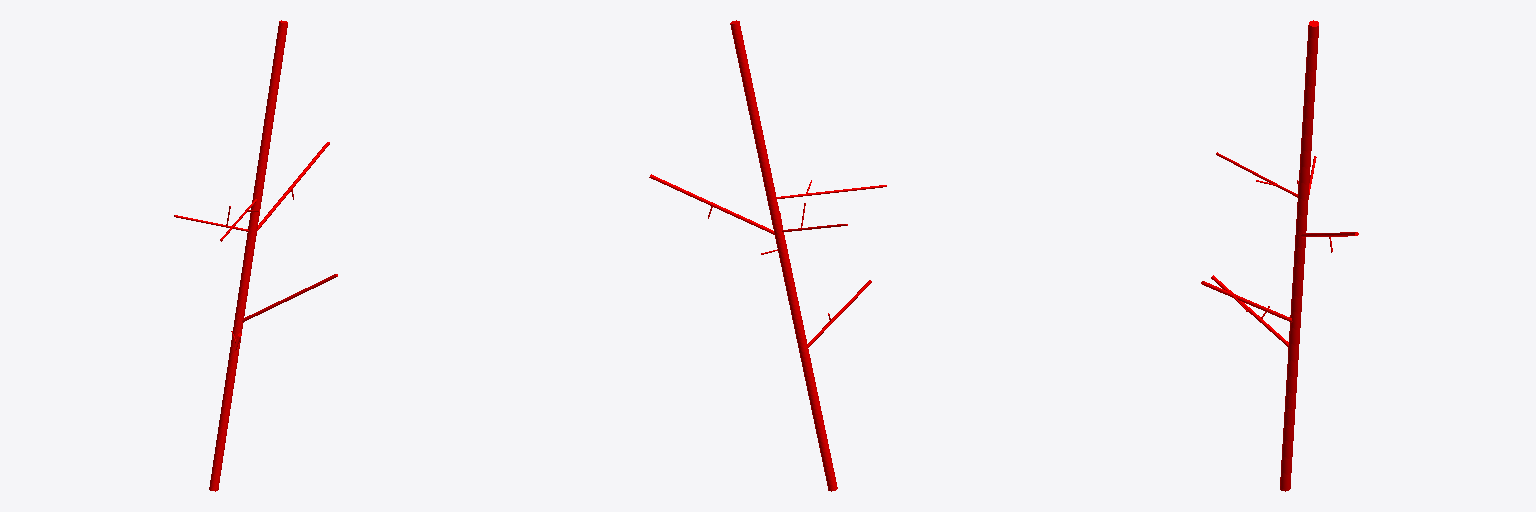
The robot description file, URDF, robot "tree_177.urdf":
<?xml version='1.0' encoding='UTF-8'?>
<robot name="tree_177.urdf">
  <link name="branch_0">
    <inertial>
      <origin xyz="0.0 0.0 0.0" rpy="0.0 -0.0 0.0"/>
      <mass value="0.1"/>
      <inertia ixx="0.001" ixy="0.0" ixz="0.0" iyy="0.001" iyz="0.0" izz="0.001"/>
    </inertial>
    <visual name="branch_0_visual">
      <geometry>
        <cylinder radius="0.061952131728685675" length="6.5943487159096525"/>
      </geometry>
      <material name="semantic_material"/>
      <origin xyz="0.634716764040335 0.16500372316297596 3.23129496449076" rpy="0.0 0.20023713428269999 0.25433465404445266"/>
    </visual>
    <collision name="branch_0_collision">
      <geometry>
        <cylinder radius="0.061952131728685675" length="6.5943487159096525"/>
      </geometry>
      <origin xyz="0.634716764040335 0.16500372316297596 3.23129496449076" rpy="0.0 0.20023713428269999 0.25433465404445266"/>
    </collision>
  </link>
  <link name="branch_1">
    <inertial>
      <origin xyz="0.0 0.0 0.0" rpy="0.0 -0.0 0.0"/>
      <mass value="0.1"/>
      <inertia ixx="0.001" ixy="0.0" ixz="0.0" iyy="0.001" iyz="0.0" izz="0.001"/>
    </inertial>
    <visual name="branch_1_visual">
      <geometry>
        <cylinder radius="0.022598519310589756" length="1.2610172672162088"/>
      </geometry>
      <material name="semantic_material"/>
      <origin xyz="0.0 0.0 0.0" rpy="0.0 -0.0 0.0"/>
    </visual>
    <collision name="branch_1_collision">
      <geometry>
        <cylinder radius="0.022598519310589756" length="1.2610172672162088"/>
      </geometry>
      <origin xyz="0.0 0.0 0.0" rpy="0.0 -0.0 0.0"/>
    </collision>
  </link>
  <link name="branch_2">
    <inertial>
      <origin xyz="0.0 0.0 0.0" rpy="0.0 -0.0 0.0"/>
      <mass value="0.1"/>
      <inertia ixx="0.001" ixy="0.0" ixz="0.0" iyy="0.001" iyz="0.0" izz="0.001"/>
    </inertial>
    <visual name="branch_2_visual">
      <geometry>
        <cylinder radius="0.01" length="0.18931573724864592"/>
      </geometry>
      <material name="semantic_material"/>
      <origin xyz="0.0 0.0 0.0" rpy="0.0 -0.0 0.0"/>
    </visual>
    <collision name="branch_2_collision">
      <geometry>
        <cylinder radius="0.01" length="0.18931573724864592"/>
      </geometry>
      <origin xyz="0.0 0.0 0.0" rpy="0.0 -0.0 0.0"/>
    </collision>
  </link>
  <link name="branch_3">
    <inertial>
      <origin xyz="0.0 0.0 0.0" rpy="0.0 -0.0 0.0"/>
      <mass value="0.1"/>
      <inertia ixx="0.001" ixy="0.0" ixz="0.0" iyy="0.001" iyz="0.0" izz="0.001"/>
    </inertial>
    <visual name="branch_3_visual">
      <geometry>
        <cylinder radius="0.015986192809593586" length="1.5023977300907447"/>
      </geometry>
      <material name="semantic_material"/>
      <origin xyz="0.0 0.0 0.0" rpy="0.0 -0.0 0.0"/>
    </visual>
    <collision name="branch_3_collision">
      <geometry>
        <cylinder radius="0.015986192809593586" length="1.5023977300907447"/>
      </geometry>
      <origin xyz="0.0 0.0 0.0" rpy="0.0 -0.0 0.0"/>
    </collision>
  </link>
  <link name="branch_4">
    <inertial>
      <origin xyz="0.0 0.0 0.0" rpy="0.0 -0.0 0.0"/>
      <mass value="0.1"/>
      <inertia ixx="0.001" ixy="0.0" ixz="0.0" iyy="0.001" iyz="0.0" izz="0.001"/>
    </inertial>
    <visual name="branch_4_visual">
      <geometry>
        <cylinder radius="0.01" length="0.26692039363874565"/>
      </geometry>
      <material name="semantic_material"/>
      <origin xyz="0.0 0.0 0.0" rpy="0.0 -0.0 0.0"/>
    </visual>
    <collision name="branch_4_collision">
      <geometry>
        <cylinder radius="0.01" length="0.26692039363874565"/>
      </geometry>
      <origin xyz="0.0 0.0 0.0" rpy="0.0 -0.0 0.0"/>
    </collision>
  </link>
  <link name="branch_5">
    <inertial>
      <origin xyz="0.0 0.0 0.0" rpy="0.0 -0.0 0.0"/>
      <mass value="0.1"/>
      <inertia ixx="0.001" ixy="0.0" ixz="0.0" iyy="0.001" iyz="0.0" izz="0.001"/>
    </inertial>
    <visual name="branch_5_visual">
      <geometry>
        <cylinder radius="0.02408217185826519" length="1.8381310448639199"/>
      </geometry>
      <material name="semantic_material"/>
      <origin xyz="0.0 0.0 0.0" rpy="0.0 -0.0 0.0"/>
    </visual>
    <collision name="branch_5_collision">
      <geometry>
        <cylinder radius="0.02408217185826519" length="1.8381310448639199"/>
      </geometry>
      <origin xyz="0.0 0.0 0.0" rpy="0.0 -0.0 0.0"/>
    </collision>
  </link>
  <link name="branch_6">
    <inertial>
      <origin xyz="0.0 0.0 0.0" rpy="0.0 -0.0 0.0"/>
      <mass value="0.1"/>
      <inertia ixx="0.001" ixy="0.0" ixz="0.0" iyy="0.001" iyz="0.0" izz="0.001"/>
    </inertial>
    <visual name="branch_6_visual">
      <geometry>
        <cylinder radius="0.01" length="0.20583651888834373"/>
      </geometry>
      <material name="semantic_material"/>
      <origin xyz="0.0 0.0 0.0" rpy="0.0 -0.0 0.0"/>
    </visual>
    <collision name="branch_6_collision">
      <geometry>
        <cylinder radius="0.01" length="0.20583651888834373"/>
      </geometry>
      <origin xyz="0.0 0.0 0.0" rpy="0.0 -0.0 0.0"/>
    </collision>
  </link>
  <link name="branch_7">
    <inertial>
      <origin xyz="0.0 0.0 0.0" rpy="0.0 -0.0 0.0"/>
      <mass value="0.1"/>
      <inertia ixx="0.001" ixy="0.0" ixz="0.0" iyy="0.001" iyz="0.0" izz="0.001"/>
    </inertial>
    <visual name="branch_7_visual">
      <geometry>
        <cylinder radius="0.015429862967432857" length="1.1980494039248315"/>
      </geometry>
      <material name="semantic_material"/>
      <origin xyz="0.0 0.0 0.0" rpy="0.0 -0.0 0.0"/>
    </visual>
    <collision name="branch_7_collision">
      <geometry>
        <cylinder radius="0.015429862967432857" length="1.1980494039248315"/>
      </geometry>
      <origin xyz="0.0 0.0 0.0" rpy="0.0 -0.0 0.0"/>
    </collision>
  </link>
  <link name="branch_8">
    <inertial>
      <origin xyz="0.0 0.0 0.0" rpy="0.0 -0.0 0.0"/>
      <mass value="0.1"/>
      <inertia ixx="0.001" ixy="0.0" ixz="0.0" iyy="0.001" iyz="0.0" izz="0.001"/>
    </inertial>
    <visual name="branch_8_visual">
      <geometry>
        <cylinder radius="0.01" length="0.3476442825881533"/>
      </geometry>
      <material name="semantic_material"/>
      <origin xyz="0.0 0.0 0.0" rpy="0.0 -0.0 0.0"/>
    </visual>
    <collision name="branch_8_collision">
      <geometry>
        <cylinder radius="0.01" length="0.3476442825881533"/>
      </geometry>
      <origin xyz="0.0 0.0 0.0" rpy="0.0 -0.0 0.0"/>
    </collision>
  </link>
  <link name="branch_9">
    <inertial>
      <origin xyz="0.0 0.0 0.0" rpy="0.0 -0.0 0.0"/>
      <mass value="0.1"/>
      <inertia ixx="0.001" ixy="0.0" ixz="0.0" iyy="0.001" iyz="0.0" izz="0.001"/>
    </inertial>
    <visual name="branch_9_visual">
      <geometry>
        <cylinder radius="0.023229594645465233" length="1.6682652352520582"/>
      </geometry>
      <material name="semantic_material"/>
      <origin xyz="0.0 0.0 0.0" rpy="0.0 -0.0 0.0"/>
    </visual>
    <collision name="branch_9_collision">
      <geometry>
        <cylinder radius="0.023229594645465233" length="1.6682652352520582"/>
      </geometry>
      <origin xyz="0.0 0.0 0.0" rpy="0.0 -0.0 0.0"/>
    </collision>
  </link>
  <link name="branch_10">
    <inertial>
      <origin xyz="0.0 0.0 0.0" rpy="0.0 -0.0 0.0"/>
      <mass value="0.1"/>
      <inertia ixx="0.001" ixy="0.0" ixz="0.0" iyy="0.001" iyz="0.0" izz="0.001"/>
    </inertial>
    <visual name="branch_10_visual">
      <geometry>
        <cylinder radius="0.01" length="0.31785406753277956"/>
      </geometry>
      <material name="semantic_material"/>
      <origin xyz="0.0 0.0 0.0" rpy="0.0 -0.0 0.0"/>
    </visual>
    <collision name="branch_10_collision">
      <geometry>
        <cylinder radius="0.01" length="0.31785406753277956"/>
      </geometry>
      <origin xyz="0.0 0.0 0.0" rpy="0.0 -0.0 0.0"/>
    </collision>
  </link>
  <joint name="joint_0_1" type="fixed">
    <parent link="branch_0"/>
    <child link="branch_1"/>
    <axis xyz="1. 0. 0."/>
    <origin xyz="0.14948688549127842 -0.36927148079193417 2.283146849054545" rpy="-0.24209060570169966 0.9514778912871681 -2.32087278874122"/>
  </joint>
  <joint name="joint_0_3" type="fixed">
    <parent link="branch_0"/>
    <child link="branch_3"/>
    <axis xyz="1. 0. 0."/>
    <origin xyz="0.22526603674998352 -0.2888590043717707 4.046925513184467" rpy="-1.2436109265525357 1.4755902970958379 2.615261897808787"/>
  </joint>
  <joint name="joint_0_5" type="fixed">
    <parent link="branch_0"/>
    <child link="branch_5"/>
    <axis xyz="1. 0. 0."/>
    <origin xyz="1.4680276699983712 0.5003158099542693 3.887018240149182" rpy="0.07520593341227036 1.1542180782530302 0.4735623257402138"/>
  </joint>
  <joint name="joint_0_7" type="fixed">
    <parent link="branch_0"/>
    <child link="branch_7"/>
    <axis xyz="1. 0. 0."/>
    <origin xyz="0.14638896263154047 0.26322805833550844 3.7799246937488116" rpy="0.20516938625053988 1.201753006578694 -3.0671306837458148"/>
  </joint>
  <joint name="joint_0_9" type="fixed">
    <parent link="branch_0"/>
    <child link="branch_9"/>
    <axis xyz="1. 0. 0."/>
    <origin xyz="0.9050369715732006 -0.4130267932781336 2.770559340839117" rpy="-0.331081624723817 0.9502435021586906 -1.2666027282592351"/>
  </joint>
  <joint name="joint_1_2" type="fixed">
    <parent link="branch_0"/>
    <child link="branch_2"/>
    <axis xyz="1. 0. 0."/>
    <origin xyz="0.1827221863884443 -0.23060312761485907 2.295471468757515" rpy="-0.31434383938782573 0.4804563776939834 1.1617628425088287"/>
  </joint>
  <joint name="joint_3_4" type="fixed">
    <parent link="branch_0"/>
    <child link="branch_4"/>
    <axis xyz="1. 0. 0."/>
    <origin xyz="0.4825956738498278 -0.21250698213812896 4.08096332288998" rpy="1.2377088060899621 -0.12823083569369187 0.2823376918224518"/>
  </joint>
  <joint name="joint_5_6" type="fixed">
    <parent link="branch_0"/>
    <child link="branch_6"/>
    <axis xyz="1. 0. 0."/>
    <origin xyz="1.5182639170048136 0.524392995763964 3.800074391817321" rpy="3.112674622125889 0.28480877590671794 -2.7461245682075686"/>
  </joint>
  <joint name="joint_7_8" type="fixed">
    <parent link="branch_0"/>
    <child link="branch_8"/>
    <axis xyz="1. 0. 0."/>
    <origin xyz="0.33632112375674666 0.1885693556477572 3.874398248933432" rpy="0.2664093661454595 0.05681335977378213 -0.2325840861759506"/>
  </joint>
  <joint name="joint_9_10" type="fixed">
    <parent link="branch_0"/>
    <child link="branch_10"/>
    <axis xyz="1. 0. 0."/>
    <origin xyz="1.1925519793338741 -0.5157855569798571 2.892218858483023" rpy="1.8732222743013656 0.5716424428110474 2.3170177033525206"/>
  </joint>
  <material name="semantic_material">
    <color rgba="1. 0. 0. 1."/>
  </material>
</robot>

--- What the picture shows (computed from the rendered views, not written in the file) ---
The picture shows the robot from 3 angles, left to right: view 1: azimuth 30°, elevation 25°; view 2: azimuth 150°, elevation 25°; view 3: azimuth 270°, elevation 25°; orthographic projection.
Model tree_177.urdf with 11 links and 10 joints (10 fixed), rooted at branch_0, posed all joints at 0.
Visible links, largest first — view 1: branch_0; view 2: branch_0; view 3: branch_0.
Link boxes in pixels (x1,y1,x2,y2): branch_0: (209, 20, 287, 491); branch_0: (730, 20, 837, 491); branch_0: (1280, 20, 1318, 491).
Bounding box of the posed robot: 2.67 × 1.81 × 6.49 m (x, y, z).
Geometry: primitives only (box / cylinder / sphere), no mesh files.
